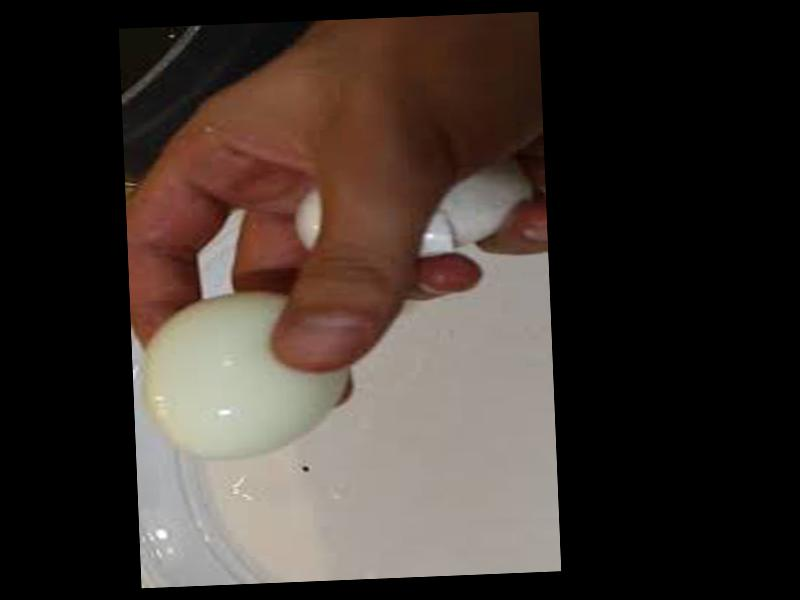Eggs: (132, 288, 354, 458)
